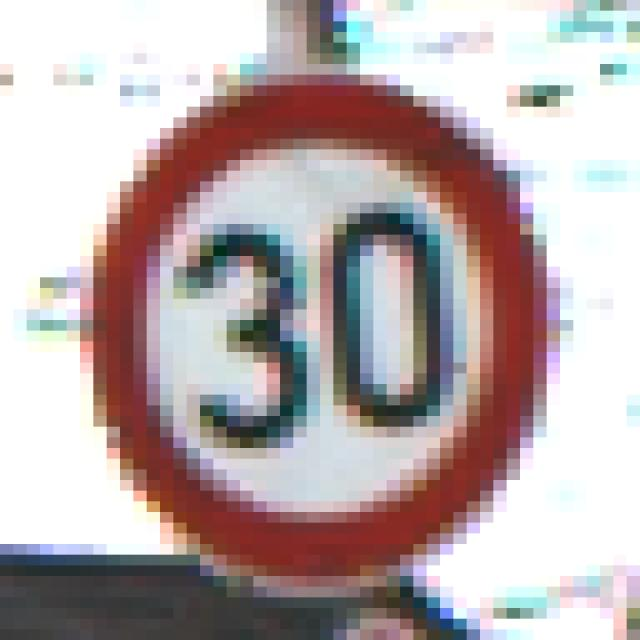Speed Limit -30-: (60, 53, 567, 566)
